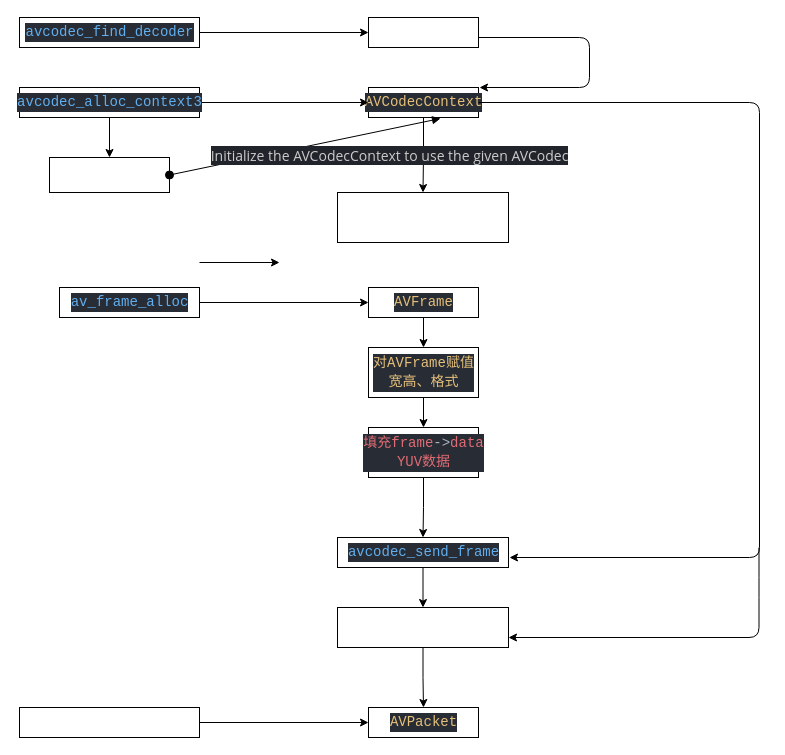
This 785x755 diagram has some shape labels left out. The shapes that lost their labels are listed below. From the top down, each one's centre as x and y in pixels, then its label:
At pixel 423 32: "AVCodec".
At pixel 109 174: "avcodec_open2".
At pixel 422 217: "对AVCodecContext赋值 主要是格式、宽高".
At pixel 422 627: "avcodec_receive_packet".
At pixel 109 722: "av_packet_alloc".
